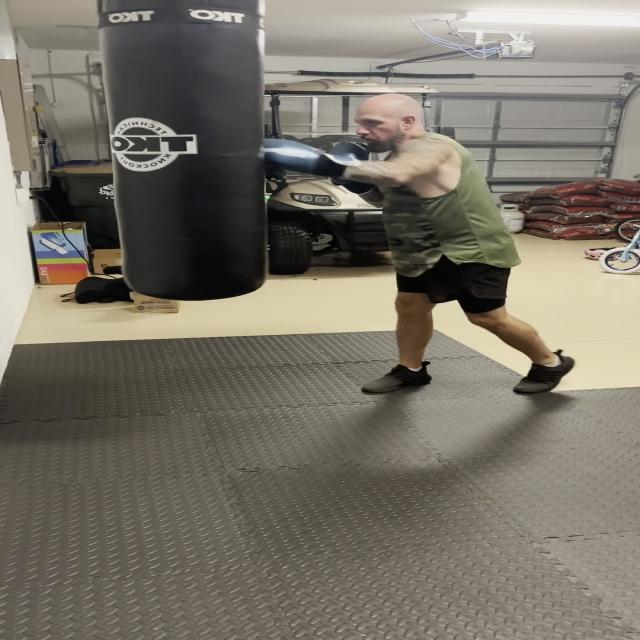bag: (97, 5, 272, 308)
cross: (241, 46, 529, 218)
